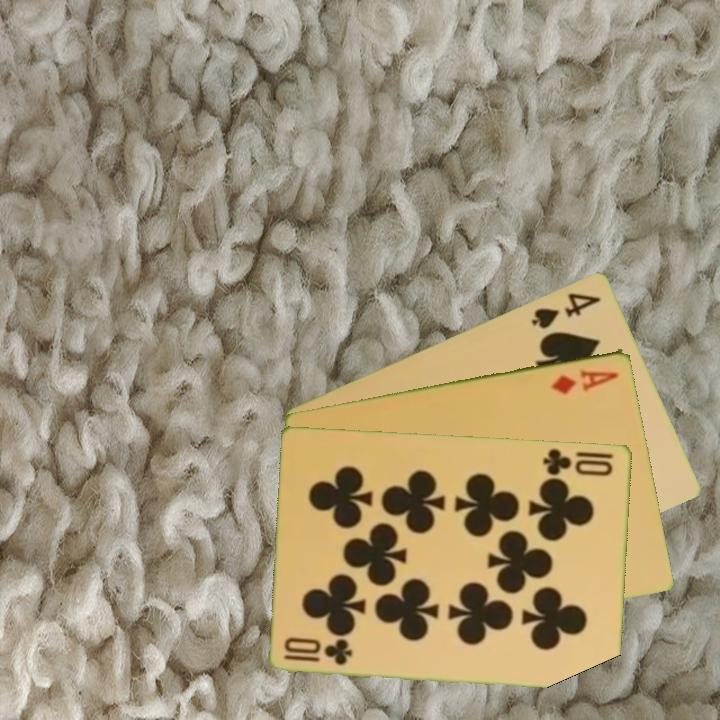10c: (539, 444, 616, 479), (280, 634, 356, 668)
4s: (528, 288, 604, 331)
Ad: (548, 365, 622, 397)
